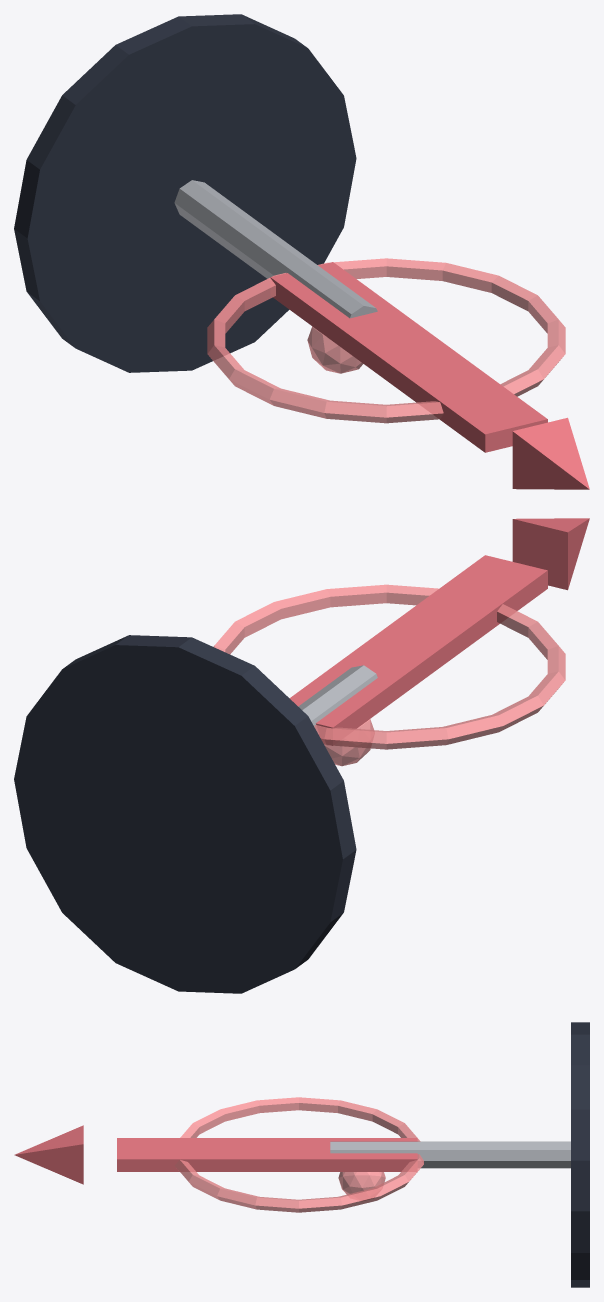
File: 04_high_tier_magic_weapon_aura.glb
3 renders of one model, top to bottom at view 1: azimuth 30°, elevation 25°; view 2: azimuth 150°, elevation 25°; view 3: azimuth 270°, elevation 25°, orthographic. The views are drawn at different scales.
Parts seen in each view (by area): view 1: weapon_display_base, magic_blade_core, weapon_enchant_orbit, weapon_grip, magic_blade_tip, weapon_gem; view 2: weapon_display_base, magic_blade_core, weapon_enchant_orbit, magic_blade_tip, weapon_grip, weapon_gem; view 3: magic_blade_core, weapon_enchant_orbit, weapon_grip, weapon_display_base, magic_blade_tip, weapon_gem.
Part boxes in pixels (box(x1,y1,x2,y2)): weapon_display_base: box(14, 14, 356, 372); magic_blade_core: box(270, 262, 547, 452); weapon_enchant_orbit: box(207, 258, 565, 423); weapon_grip: box(174, 180, 377, 318); magic_blade_tip: box(512, 417, 589, 489); weapon_gem: box(307, 326, 363, 373); weapon_display_base: box(14, 635, 356, 993); magic_blade_core: box(289, 555, 547, 745); weapon_enchant_orbit: box(213, 584, 565, 749); magic_blade_tip: box(512, 518, 589, 590); weapon_grip: box(298, 665, 377, 733); weapon_gem: box(324, 719, 373, 766); magic_blade_core: box(117, 1138, 417, 1171); weapon_enchant_orbit: box(175, 1097, 423, 1212); weapon_grip: box(330, 1141, 570, 1168); weapon_display_base: box(571, 1022, 589, 1287); magic_blade_tip: box(14, 1125, 83, 1184); weapon_gem: box(338, 1172, 385, 1194).
Size of the model in its own units: 0.84 by 0.84 by 1.82.
